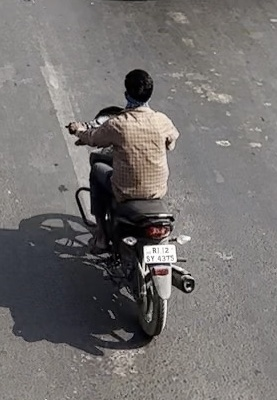BikeWithRider: (60, 63, 199, 341)
NoHelmet: (118, 64, 158, 110)
